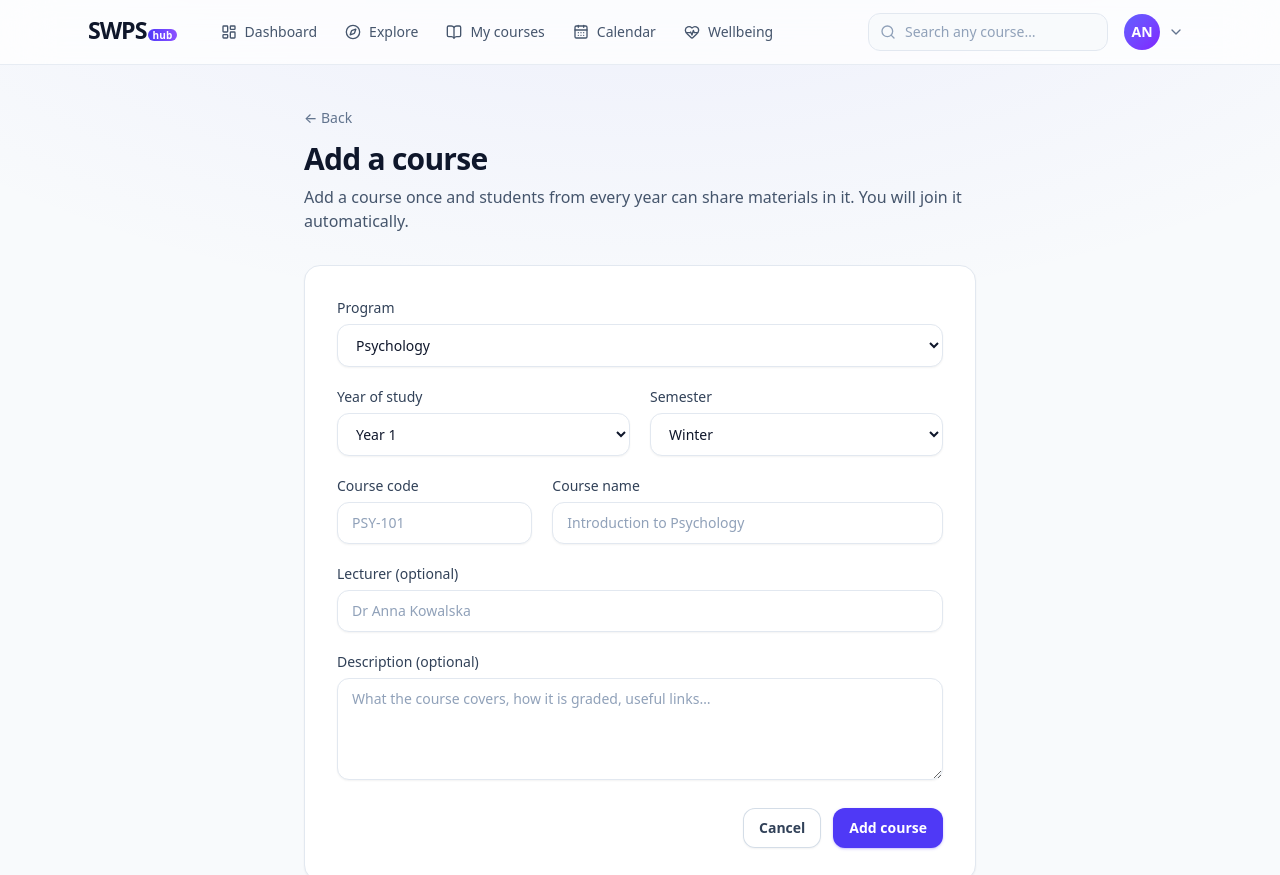
Test case: courses › preselects the program and shows server errors when adding a course
expect the dropdown labelled "Program" shows "Psychology": met, box 337,324 -> 943,367
Step 1. Select "Year 2" in the dropdown labelled "Year of study" → (484, 434), box 337,413 -> 630,456
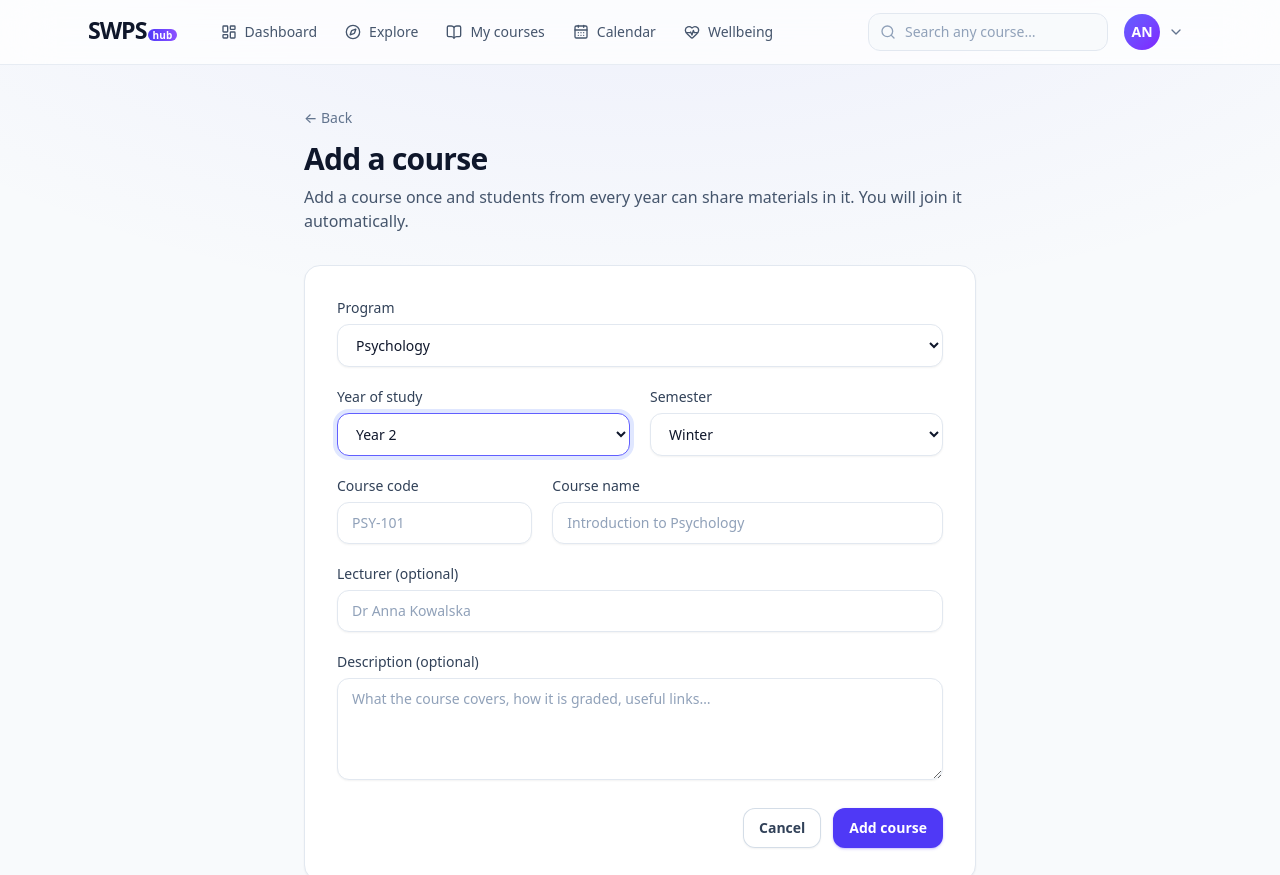
Step 2. Type "sta-201" into the field labelled "Course code" → (435, 523), box 337,502 -> 532,544
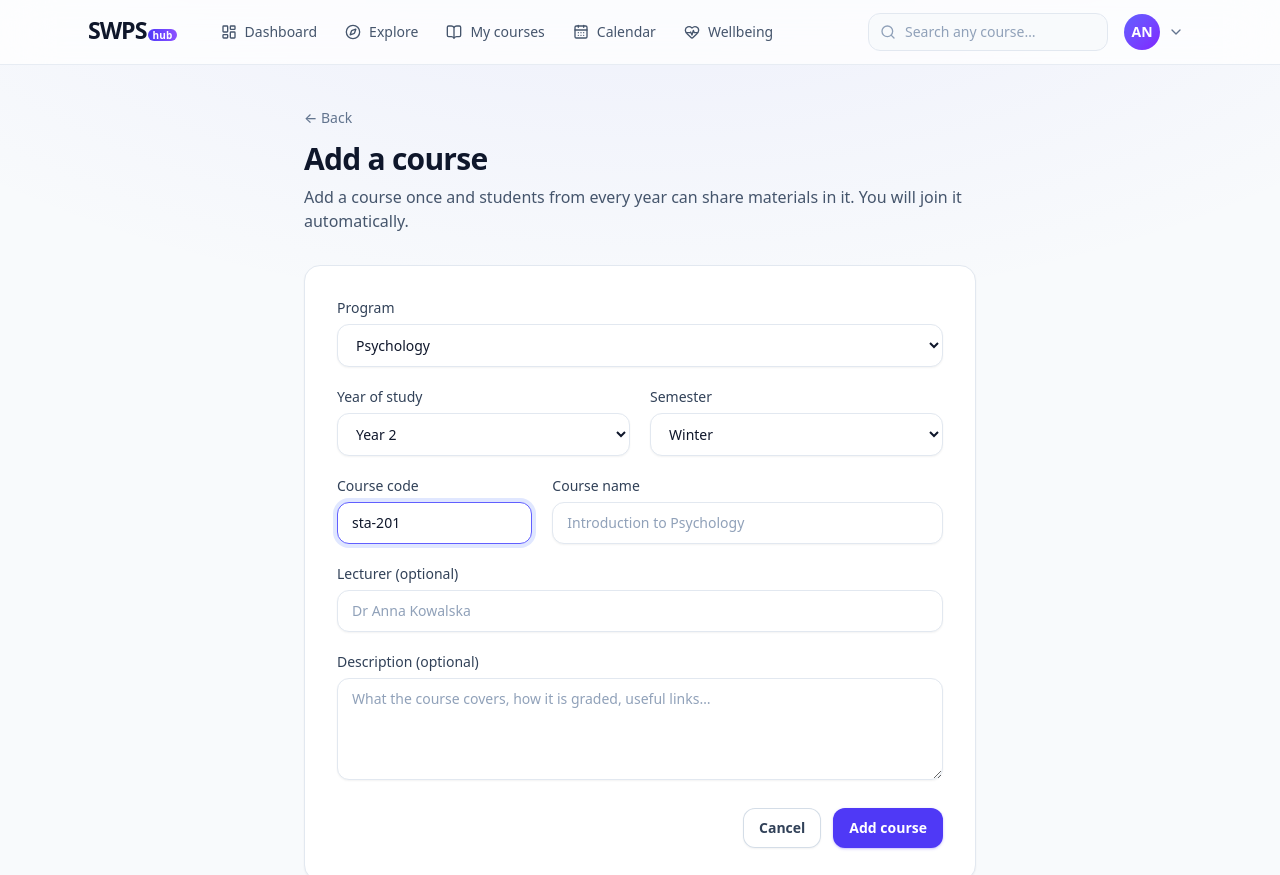
Step 3. Type "Statistics in Psychology" into the field labelled "Course name" → (748, 523), box 552,502 -> 943,544
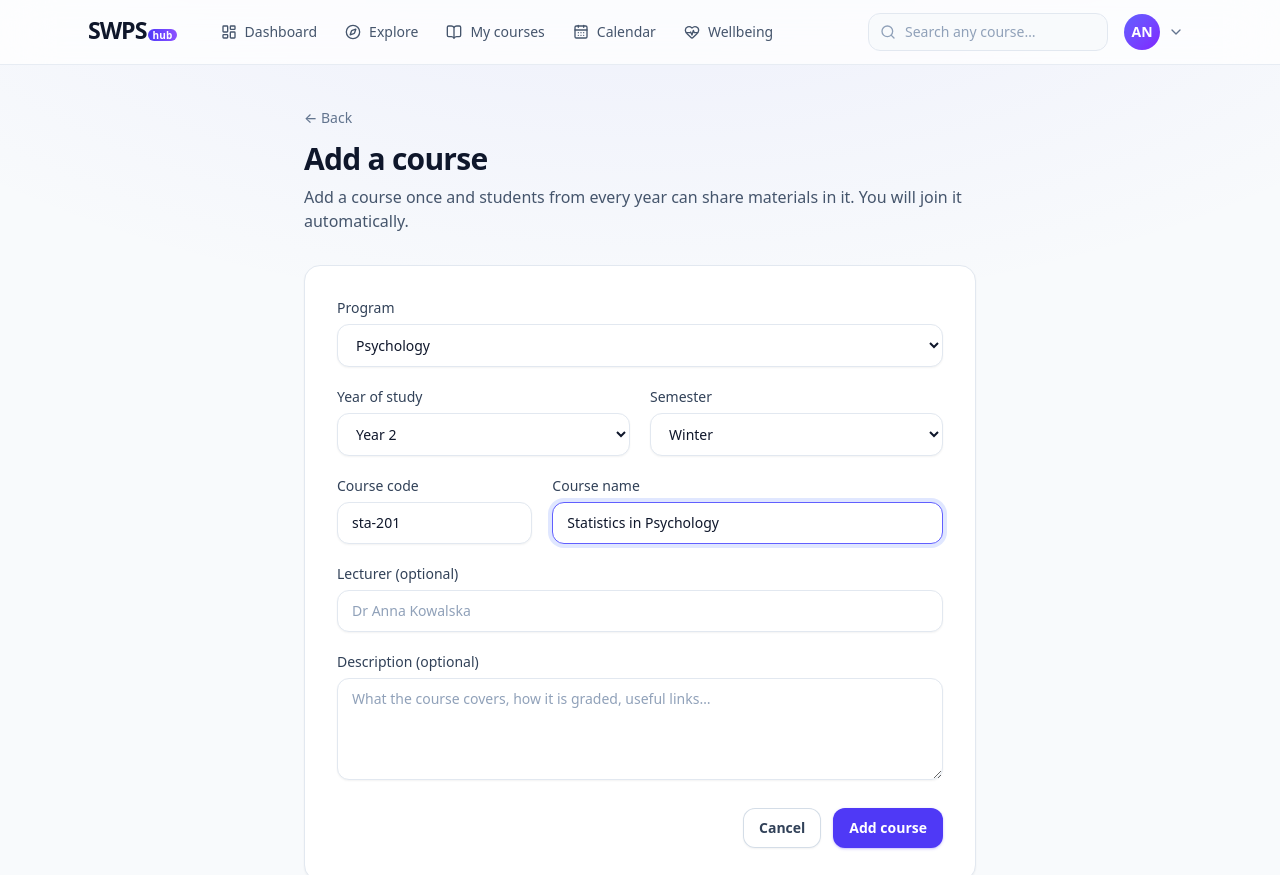
Step 4. Click the button "Add course" → click(888, 828), box 833,808 -> 943,848
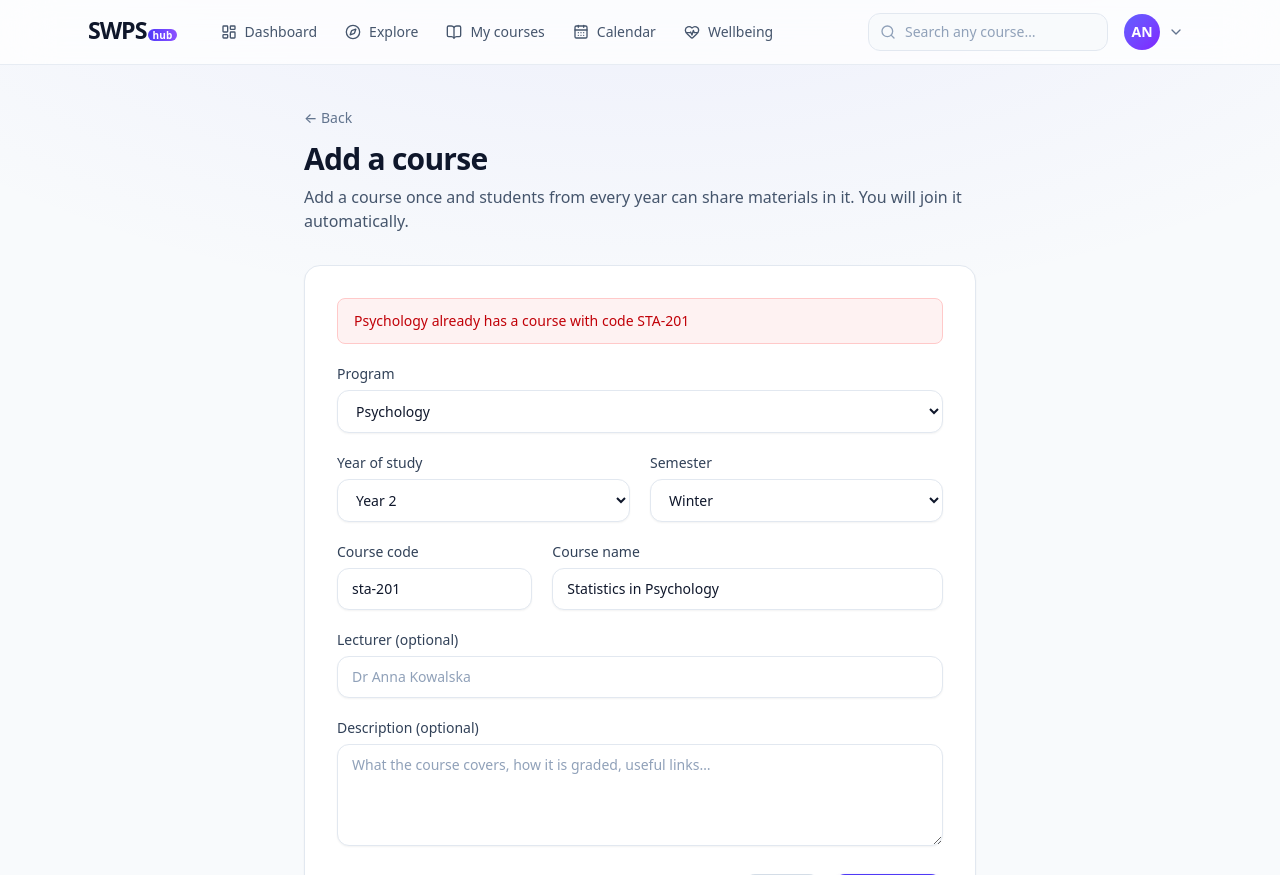
expect the message reads "Psychology already has a course with code STA-201": met, box 354,311 -> 689,330
